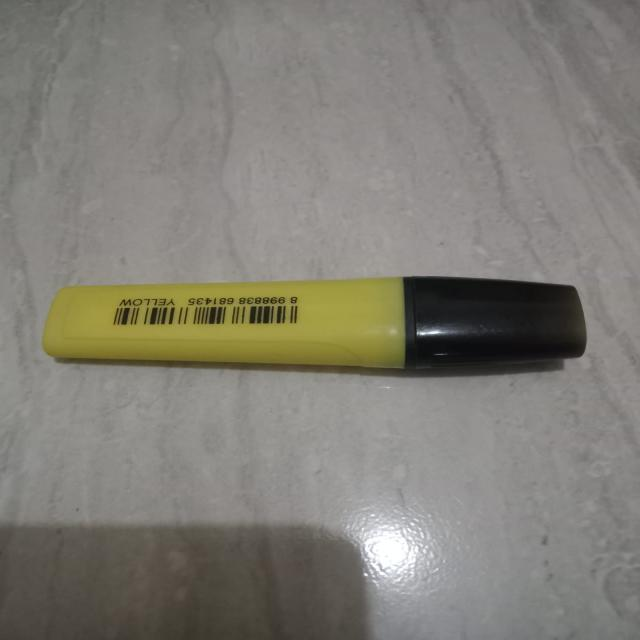highlighter: (24, 260, 624, 380)
